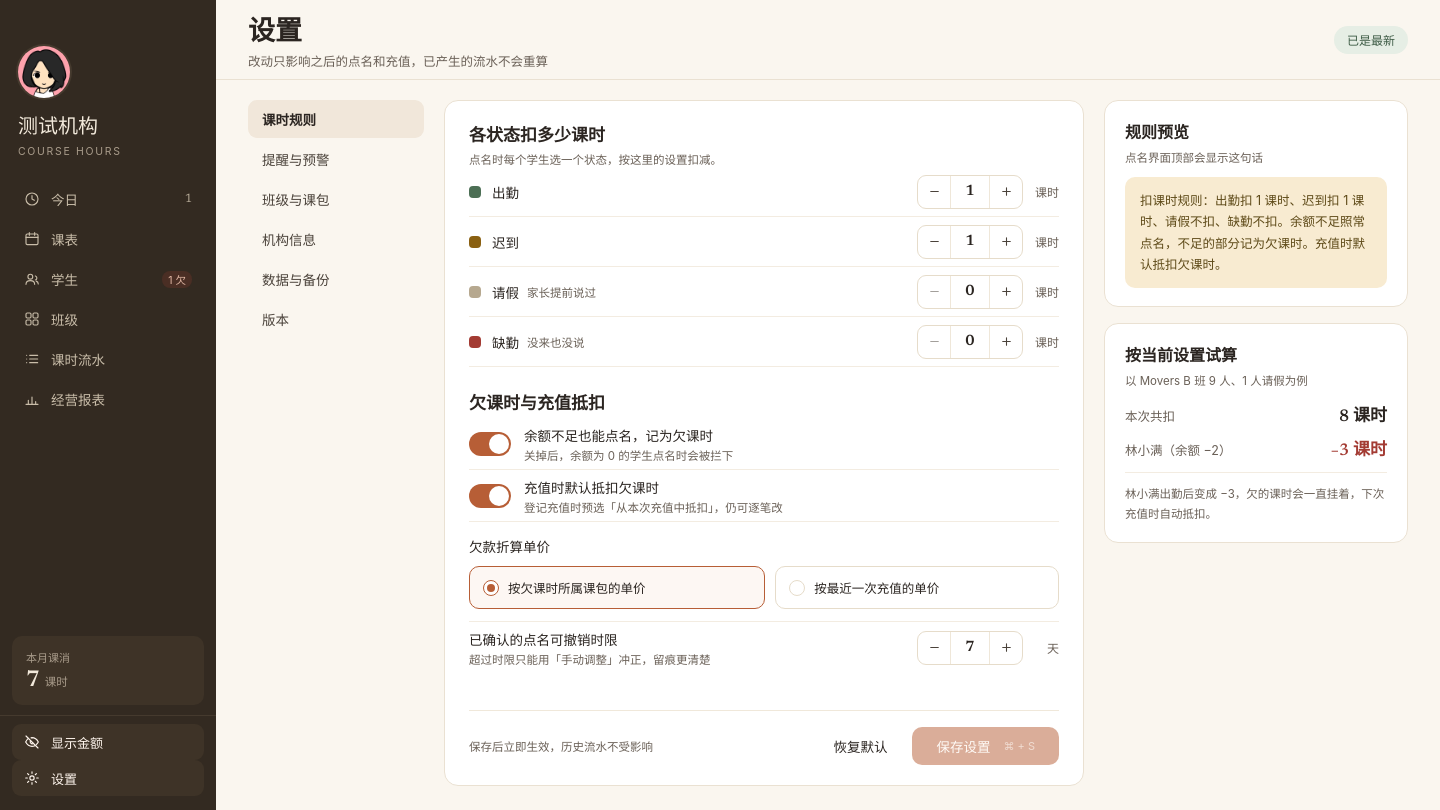
Test case: 设置 › 「放弃改动」回到已保存的值
Expected: the text "已是最新" is shown, x1=1334 y1=26 x2=1408 y2=54
Click the 1st button named "增加": (1006, 192) x1=990 y1=176 x2=1022 y2=208
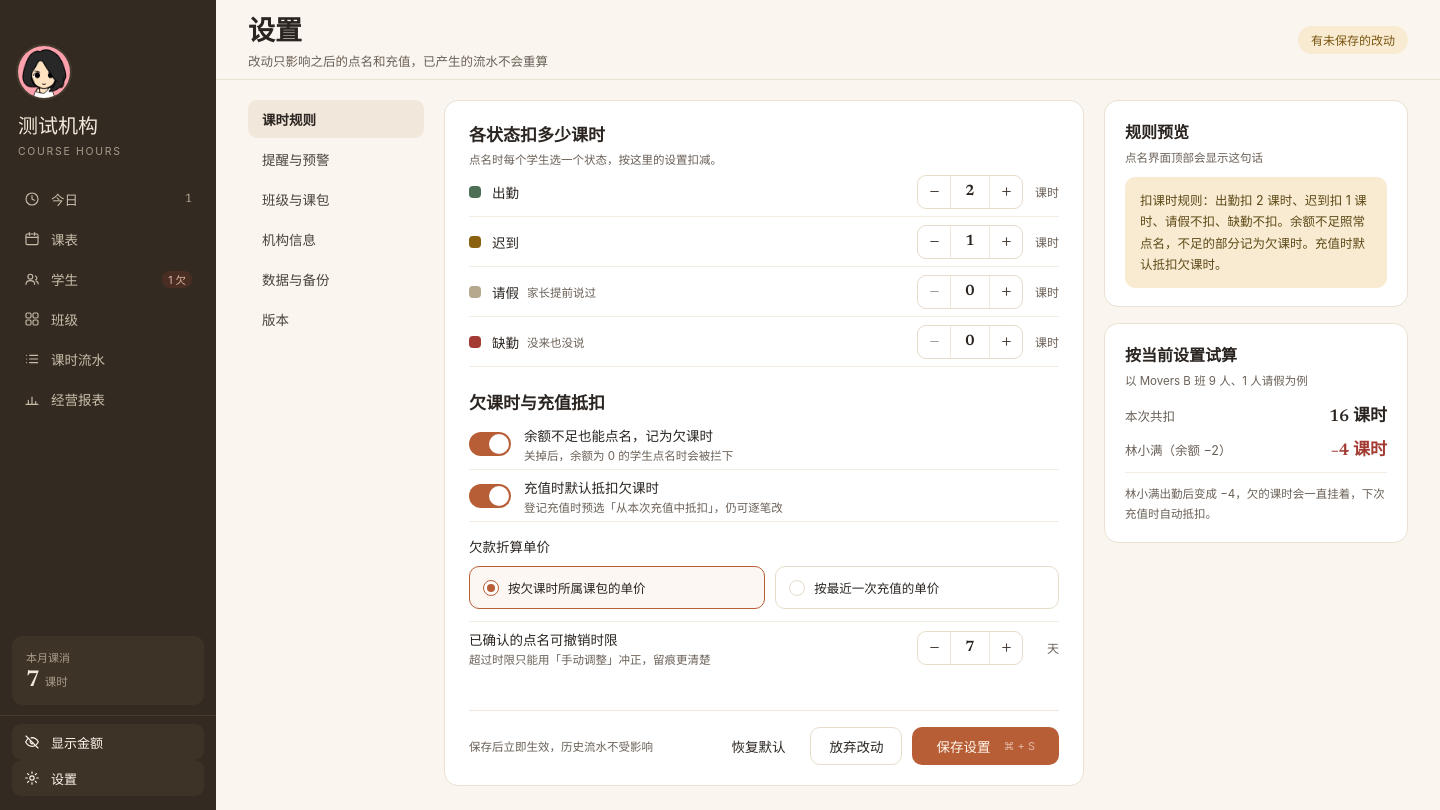
Expected: the text "有未保存的改动" is shown, x1=1298 y1=26 x2=1408 y2=54
Click the button "放弃改动": (856, 746) x1=810 y1=727 x2=902 y2=765
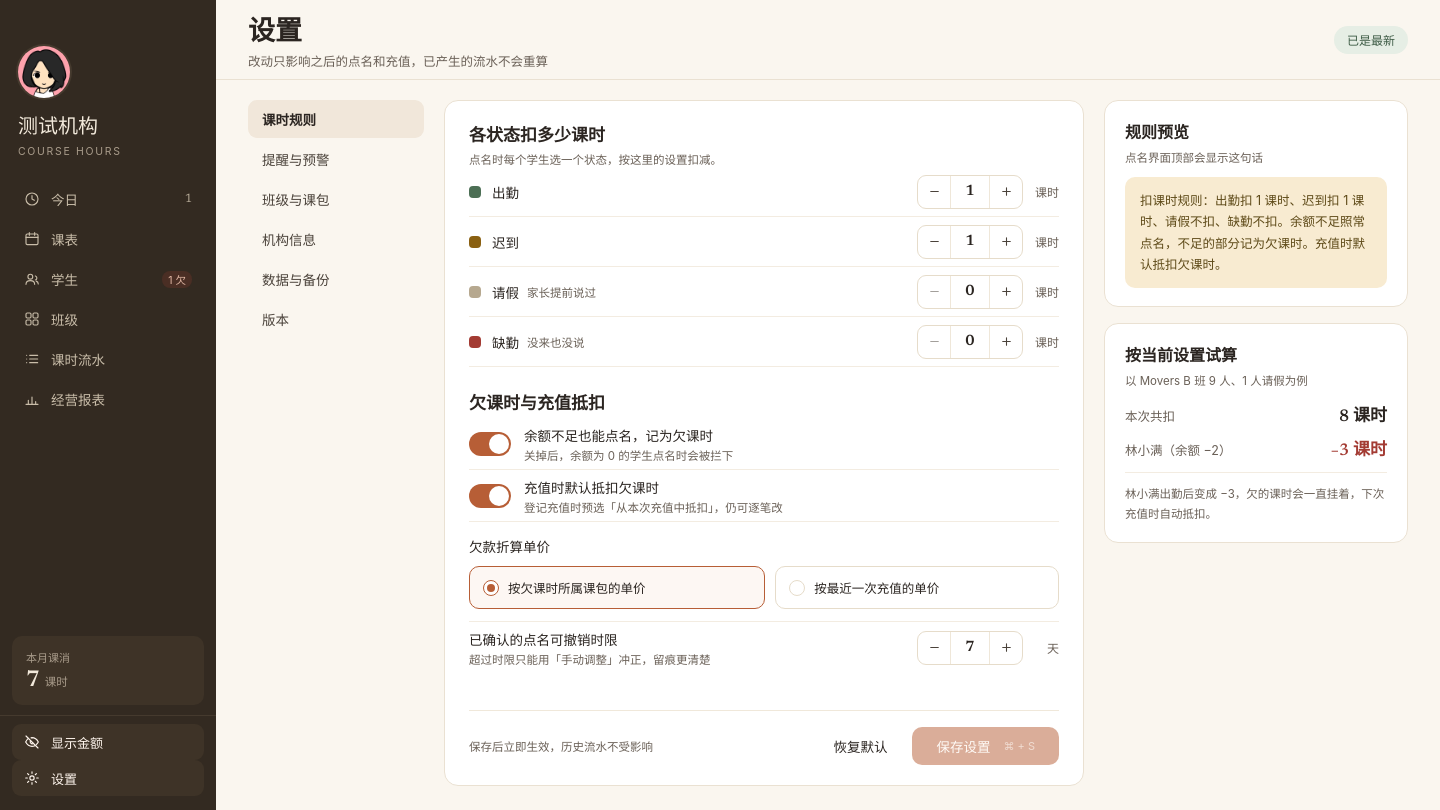
Expected: the text "已是最新" is shown, x1=1334 y1=26 x2=1408 y2=54
